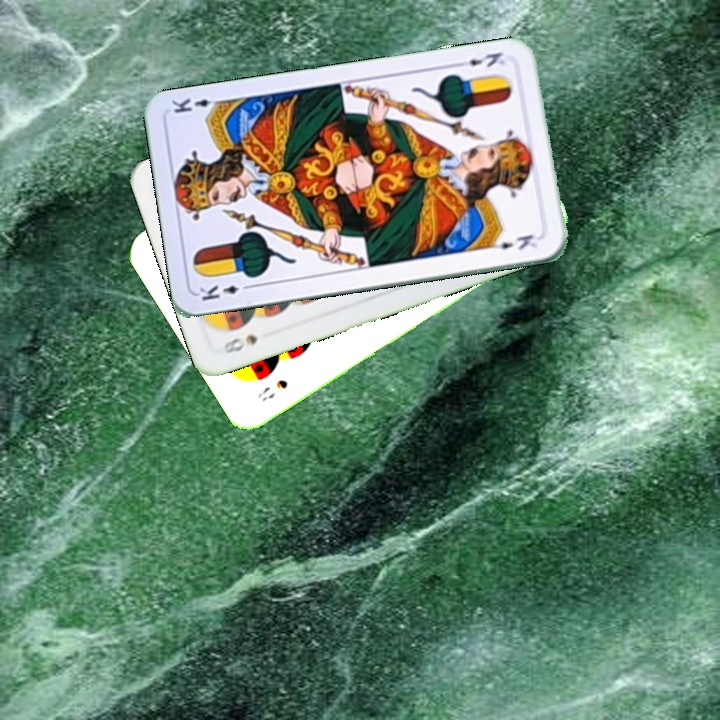EK: (195, 280, 255, 304), (454, 48, 507, 70)
S8: (253, 375, 291, 404), (220, 330, 261, 356)
